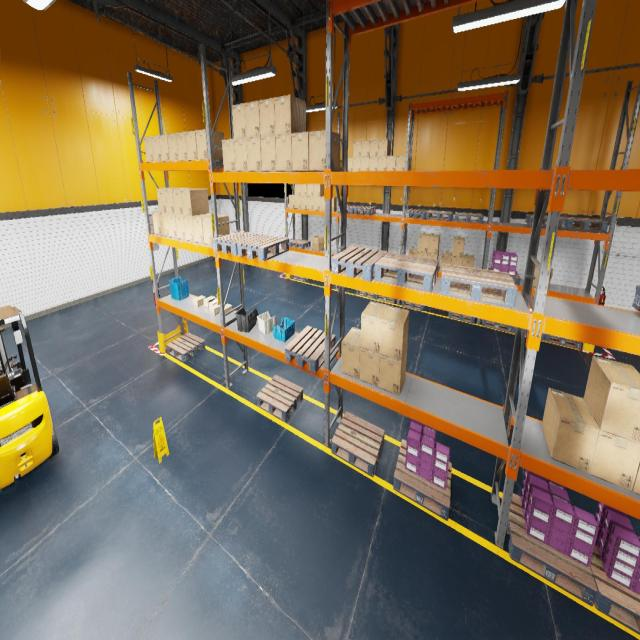box: (583, 398, 640, 491), (584, 356, 640, 443), (542, 388, 599, 473), (380, 306, 409, 361), (360, 301, 389, 354), (379, 344, 407, 396), (274, 94, 306, 135), (309, 130, 340, 170), (341, 327, 361, 379), (275, 134, 303, 171), (291, 132, 317, 171), (202, 214, 230, 246), (196, 129, 224, 160), (359, 347, 380, 387), (181, 188, 209, 216), (261, 135, 281, 171), (164, 188, 188, 214), (259, 98, 275, 136), (172, 188, 195, 214), (245, 100, 260, 138), (192, 214, 211, 244), (246, 137, 262, 171), (232, 103, 246, 139), (156, 188, 176, 213), (532, 265, 553, 288), (234, 138, 248, 171), (222, 139, 235, 171), (185, 130, 198, 160), (158, 134, 170, 161), (176, 132, 187, 160), (183, 215, 194, 241), (168, 133, 178, 161), (151, 135, 161, 162), (144, 136, 154, 162), (175, 214, 185, 240), (632, 462, 640, 494), (159, 212, 169, 237), (167, 214, 177, 238), (440, 251, 452, 271), (452, 237, 464, 257), (428, 234, 440, 254), (418, 233, 430, 252), (152, 210, 161, 235), (378, 139, 391, 156), (311, 236, 324, 252), (396, 155, 406, 171), (462, 254, 474, 267), (386, 156, 396, 171), (369, 140, 378, 156), (361, 140, 370, 156), (203, 296, 216, 307), (208, 294, 218, 308), (193, 295, 205, 306), (313, 184, 324, 196), (219, 303, 232, 313), (353, 141, 361, 157), (451, 256, 463, 266), (369, 157, 378, 170), (378, 157, 387, 170), (361, 157, 369, 171), (352, 157, 360, 171), (210, 303, 219, 315), (428, 251, 438, 260), (408, 247, 418, 256), (307, 196, 313, 210), (289, 194, 295, 208), (314, 197, 320, 210), (301, 196, 307, 209), (294, 196, 300, 208), (307, 184, 313, 196), (300, 184, 306, 196), (320, 197, 325, 210), (295, 183, 300, 196), (332, 196, 336, 211), (348, 157, 352, 171), (418, 252, 427, 258)
forklift: (0, 305, 59, 488)
pallets: (507, 493, 598, 606), (393, 439, 451, 520), (590, 543, 640, 635), (440, 264, 517, 308), (332, 412, 384, 476), (374, 253, 439, 292), (285, 326, 335, 373), (257, 375, 303, 422), (332, 246, 388, 281), (237, 234, 289, 260), (213, 231, 263, 255), (166, 333, 205, 362), (561, 216, 608, 231), (545, 334, 582, 349), (525, 214, 567, 227), (488, 268, 520, 284), (512, 326, 546, 340), (482, 319, 512, 332), (455, 212, 483, 224), (448, 312, 475, 324), (426, 210, 453, 221), (401, 301, 425, 311), (406, 209, 429, 219), (375, 294, 397, 304), (632, 285, 640, 311), (290, 239, 310, 249), (338, 205, 360, 214), (354, 206, 376, 215), (357, 290, 375, 298), (291, 275, 309, 281), (338, 247, 349, 253)
